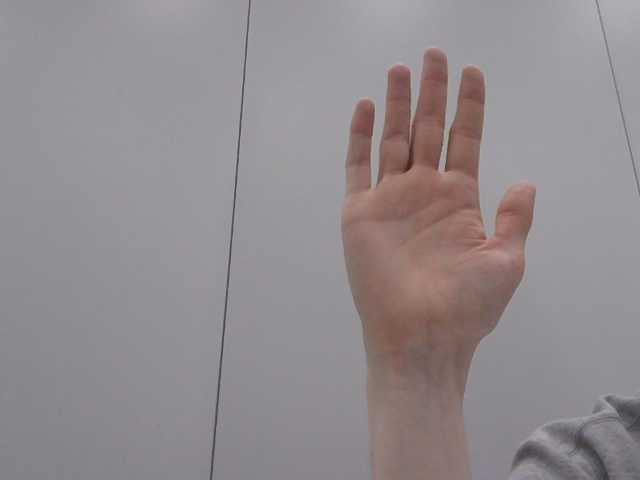nada: (309, 32, 560, 380)
